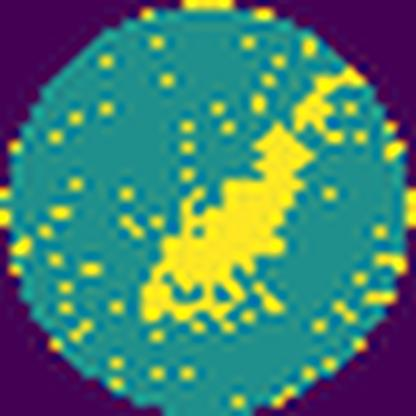Loc: (138, 119, 315, 334), (294, 69, 363, 143)
